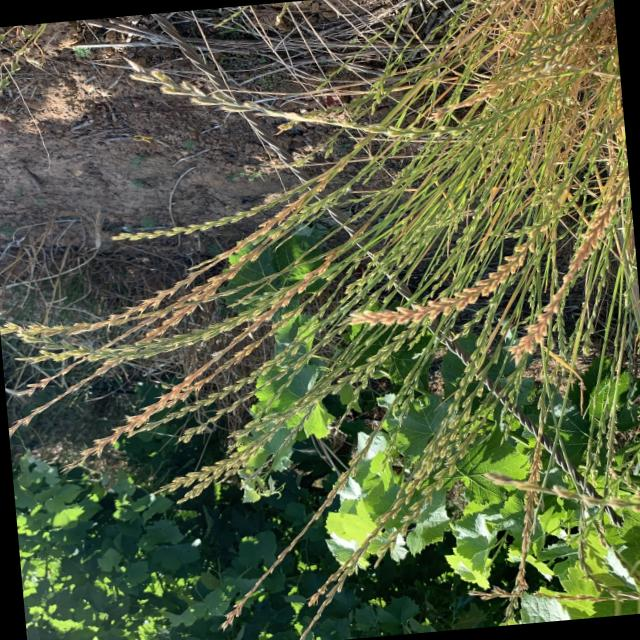Lolium: (0, 0, 640, 640), (134, 159, 478, 495), (273, 271, 582, 629), (204, 340, 470, 627), (353, 169, 598, 322)
